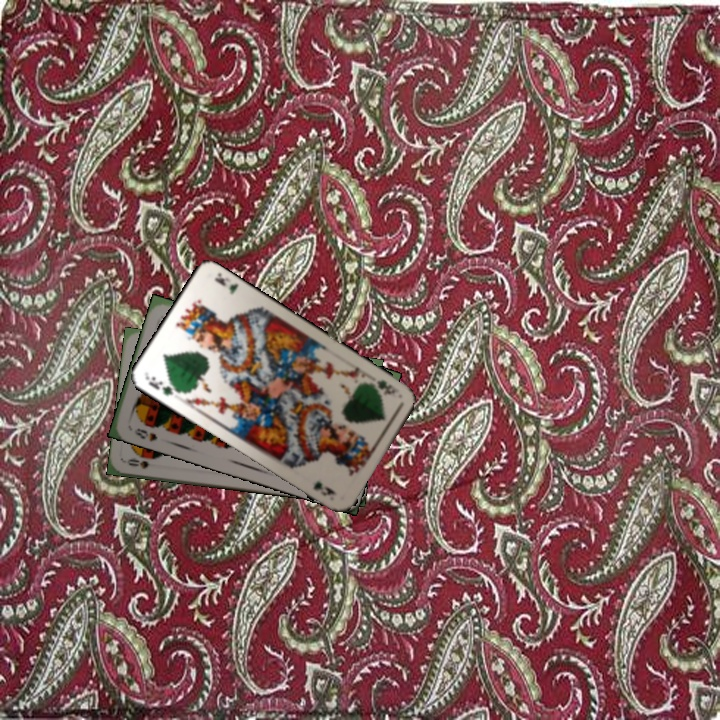GK: (144, 372, 183, 398), (365, 375, 402, 397)
S8: (130, 424, 160, 444)
SO: (123, 455, 152, 472)
